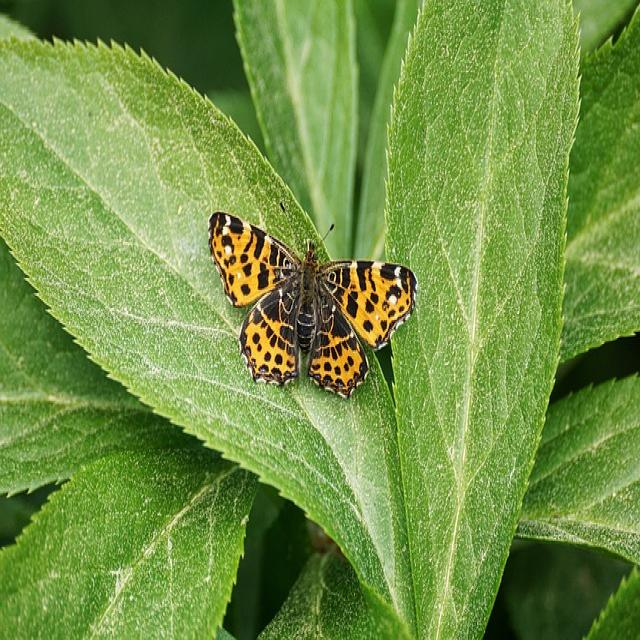butterfly: (210, 215, 415, 398)
